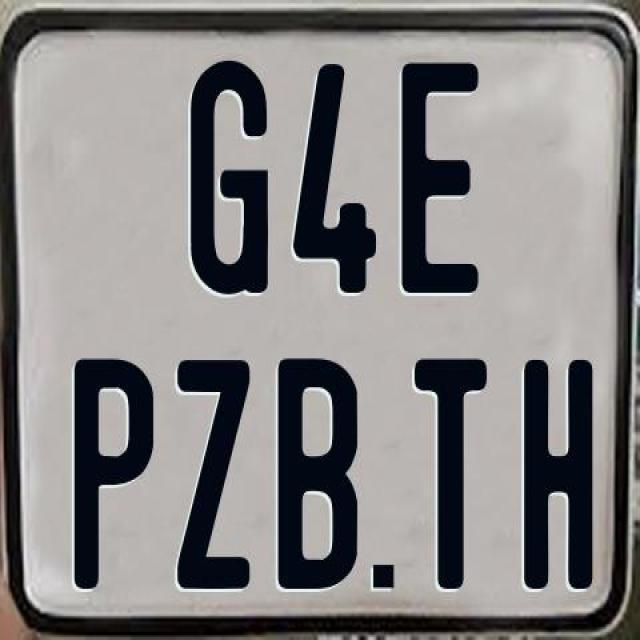4: (293, 61, 379, 290)
B: (274, 356, 354, 590)
E: (397, 58, 483, 296)
G: (191, 58, 276, 294)
H: (522, 356, 594, 588)
P: (74, 358, 154, 598)
T: (414, 357, 494, 597)
Z: (173, 358, 252, 597)
